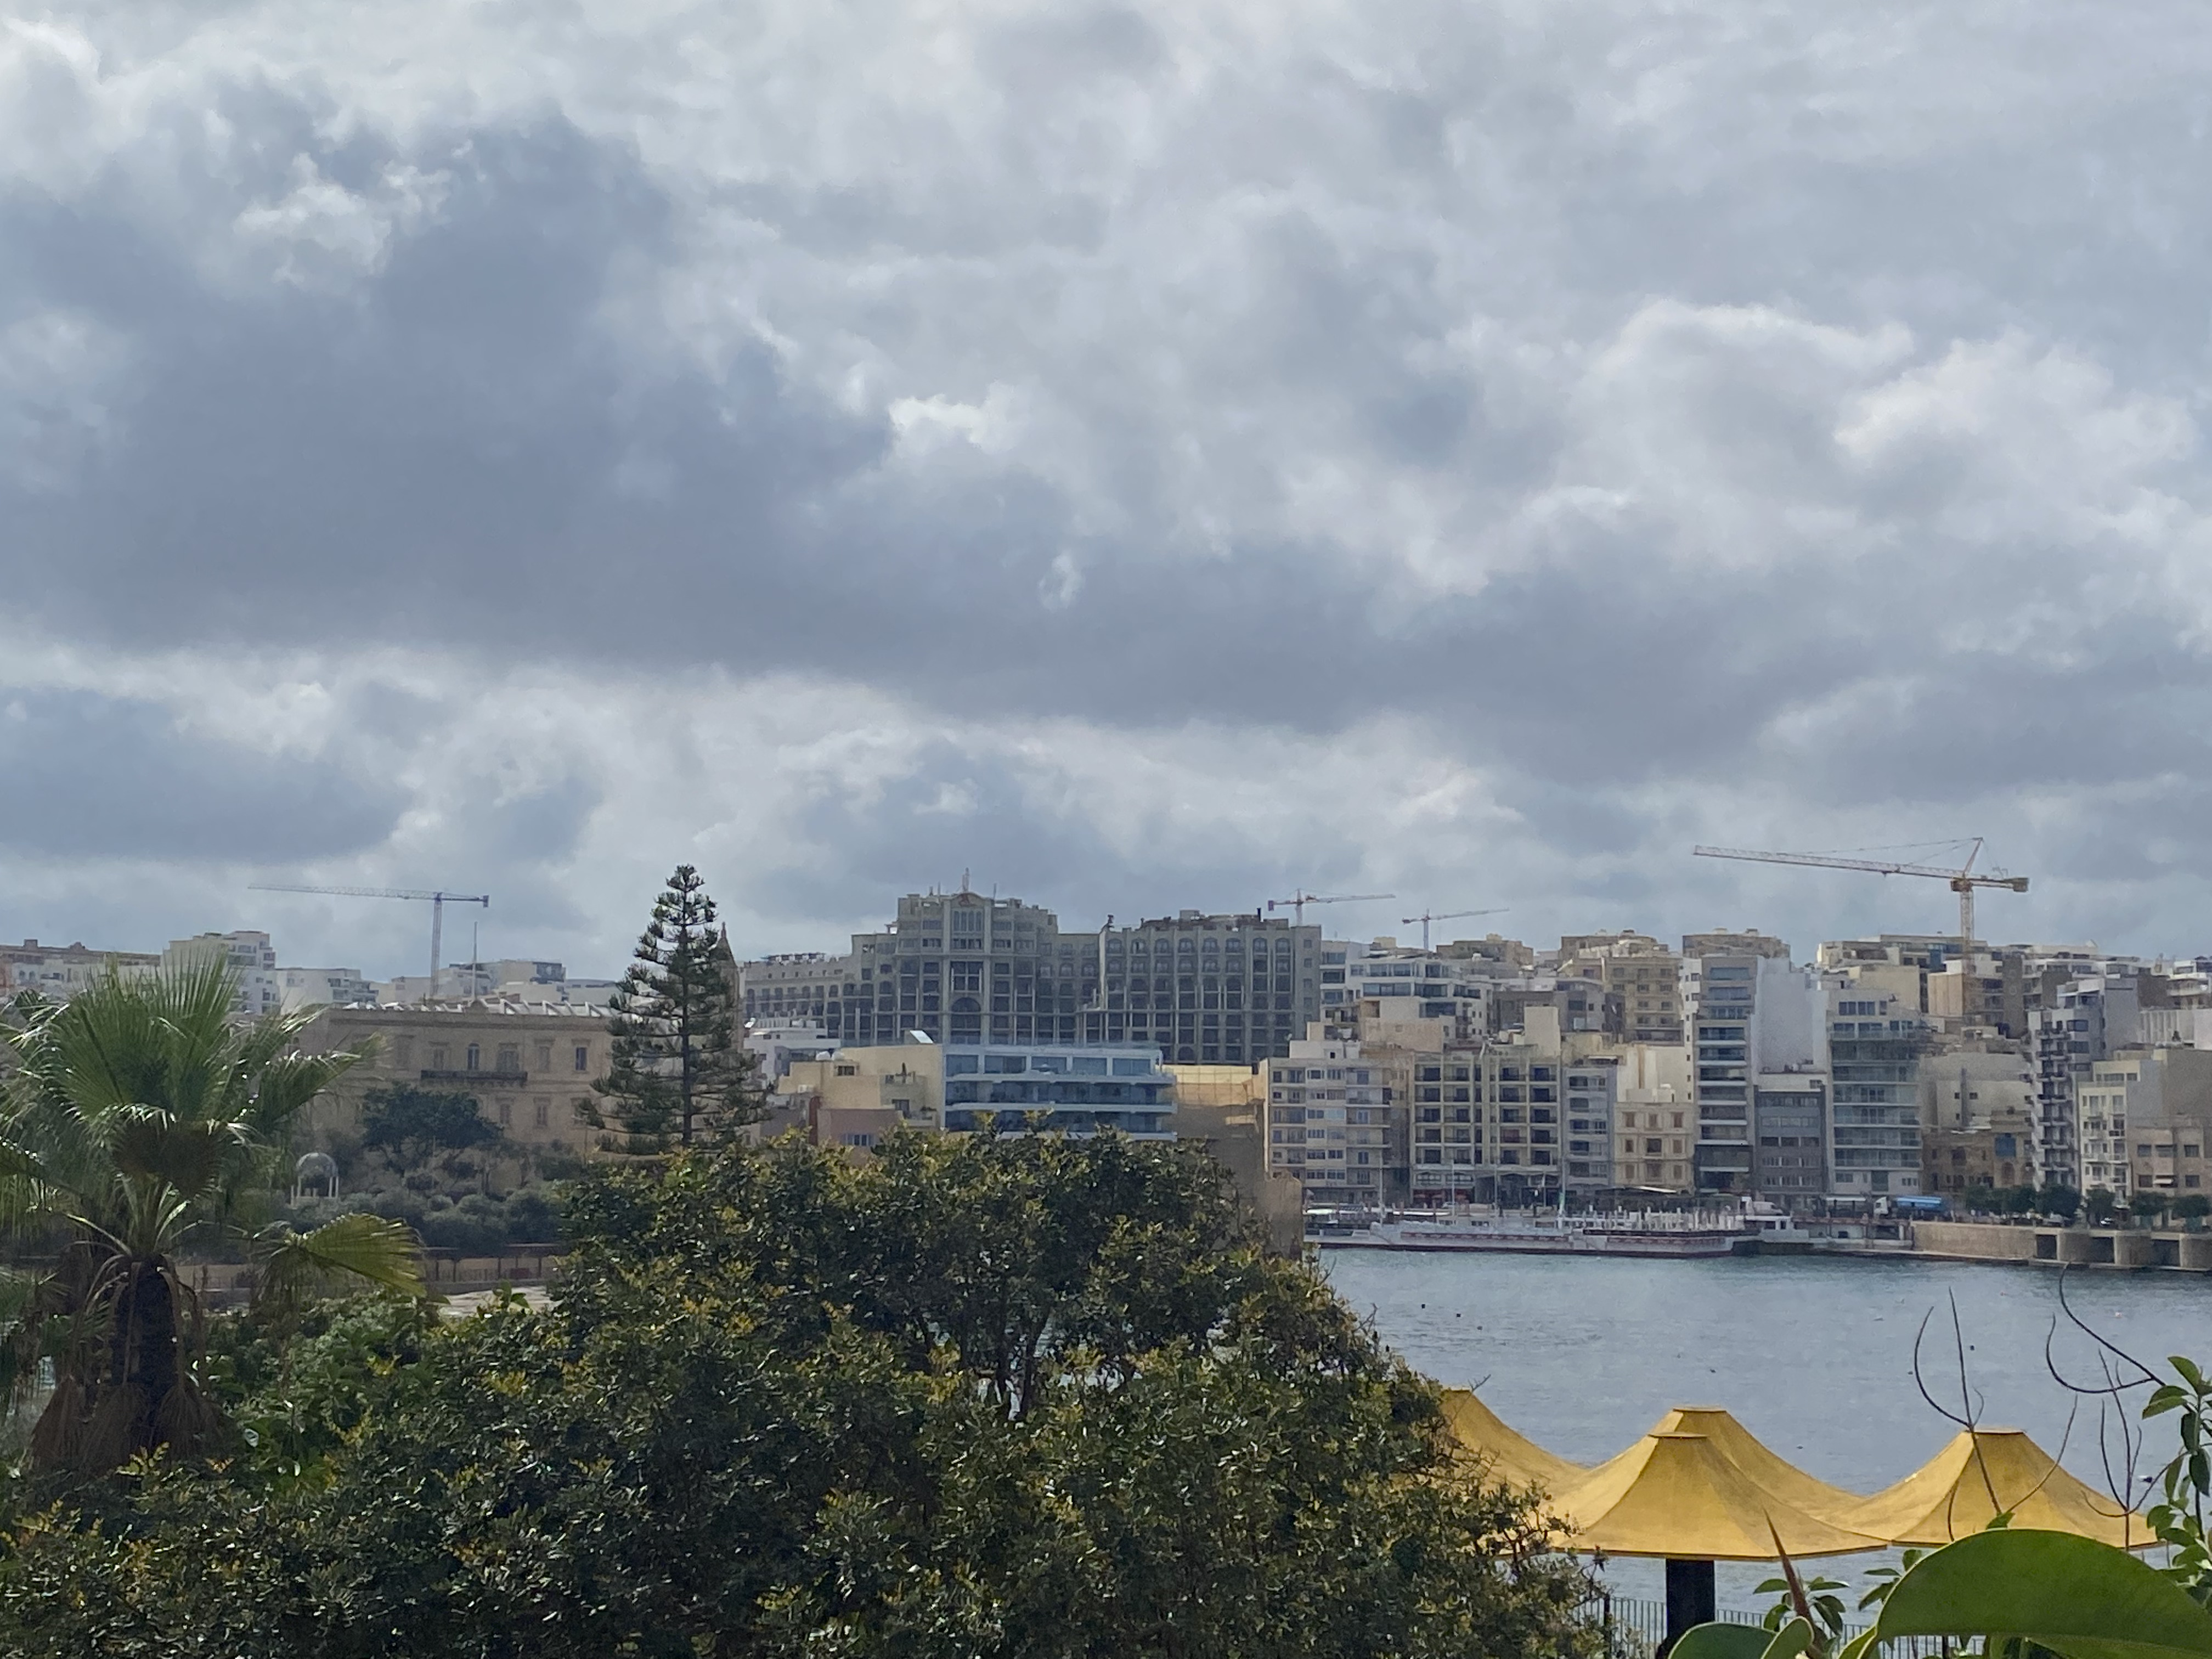crane: (1665, 817, 2088, 932), (235, 866, 507, 943), (1217, 863, 1411, 922)
